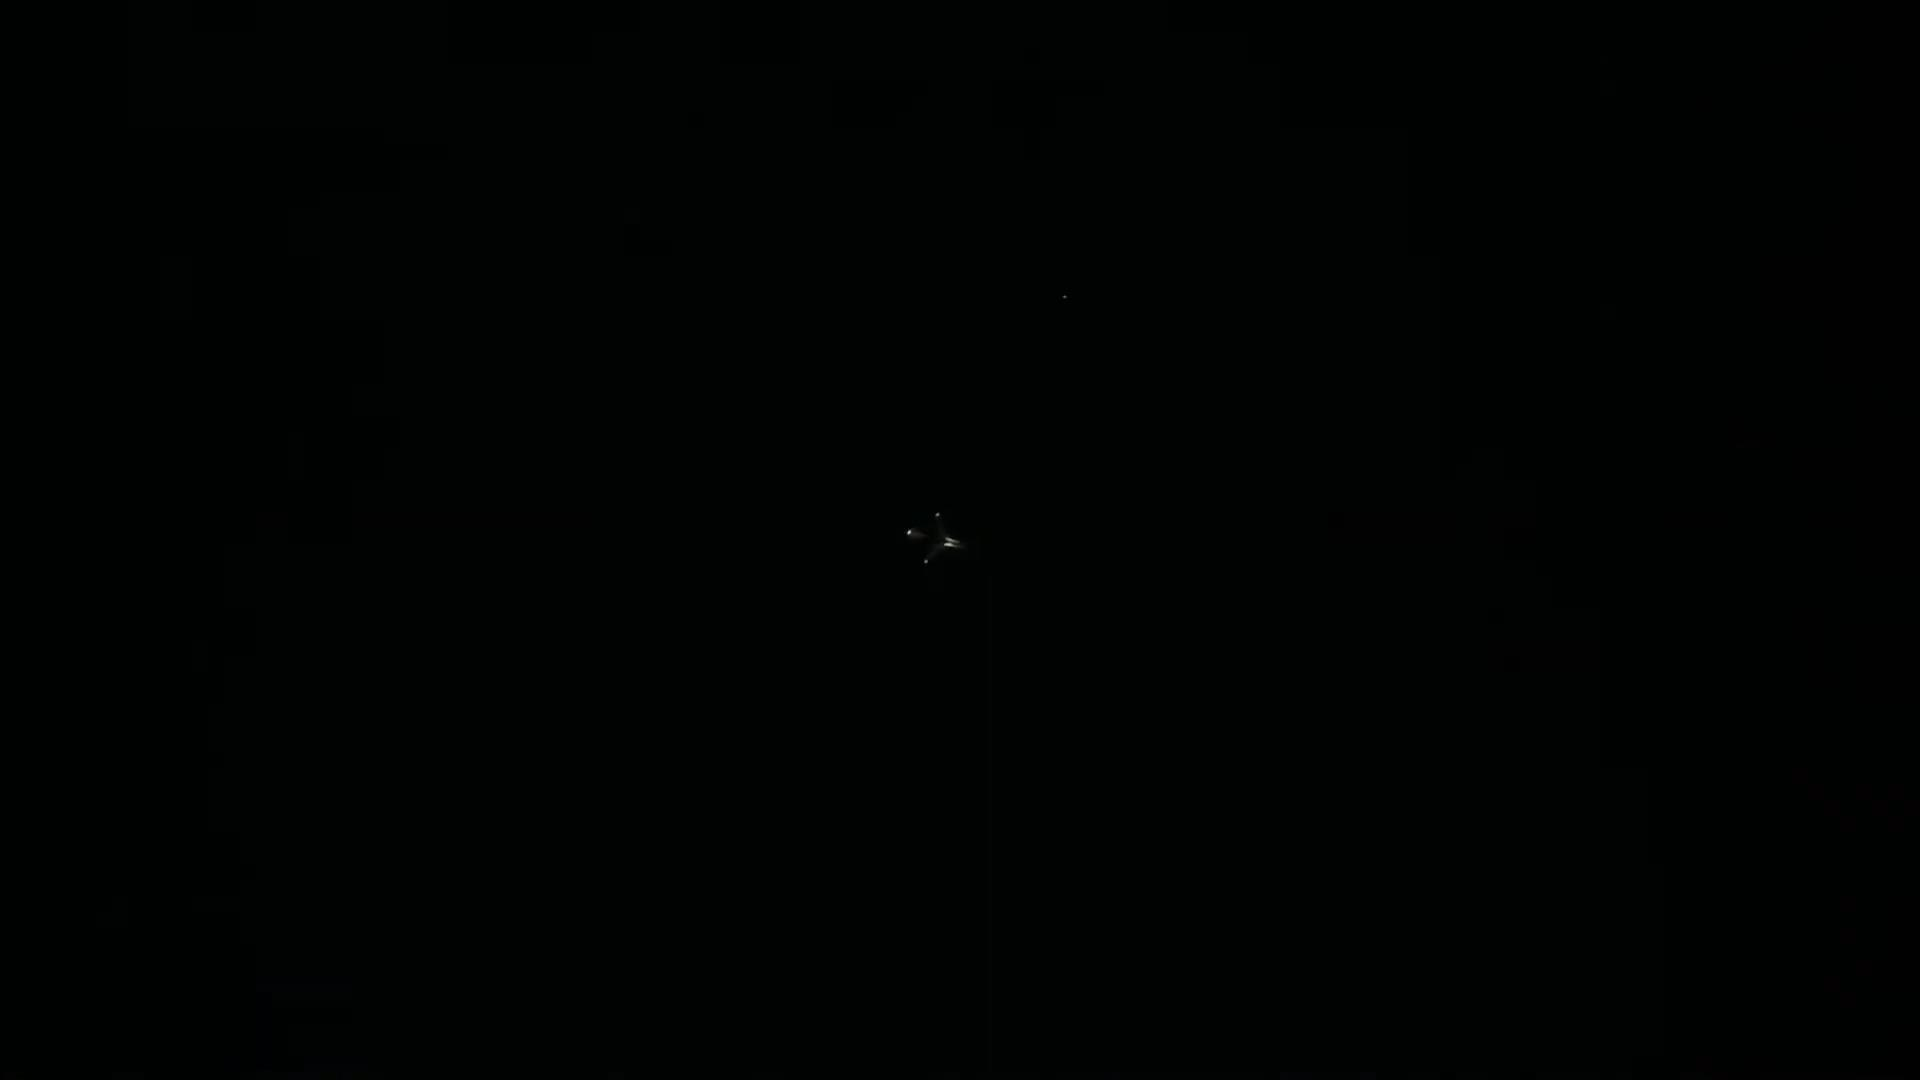Plane: (886, 492, 986, 609)
